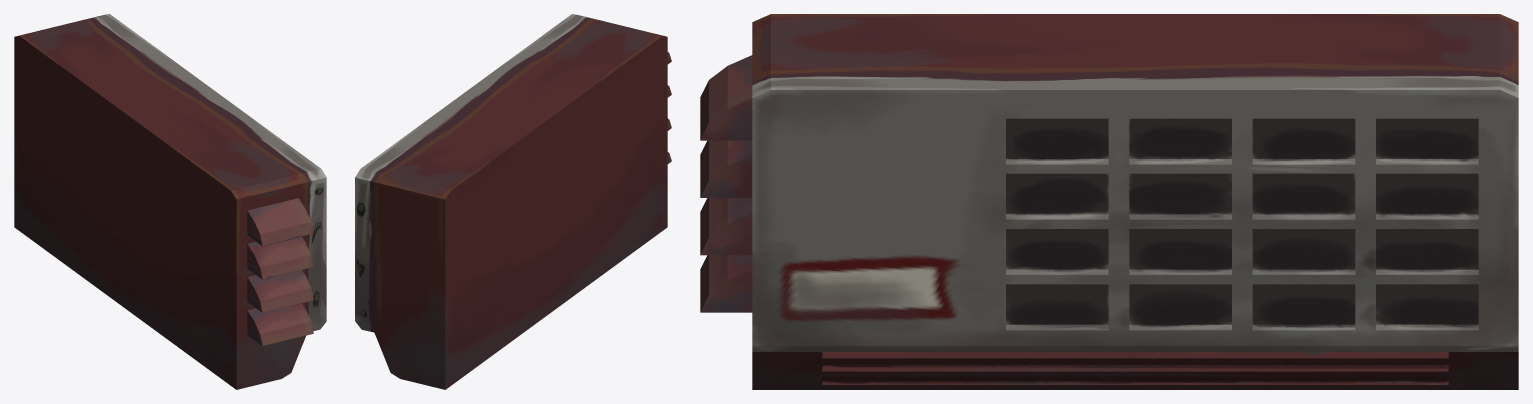
File: ventilation unit.fbx
3 renders of one model, left to right at view 1: azimuth 30°, elevation 25°; view 2: azimuth 150°, elevation 25°; view 3: azimuth 270°, elevation 25°, orthographic. The views are drawn at different scales.
Parts seen in each view (by area): view 1: ventilation unit; view 2: ventilation unit; view 3: ventilation unit.
Boxes of the visible parts, x1,y1,x2,y2 form: ventilation unit: [14, 14, 326, 389]; ventilation unit: [355, 14, 671, 389]; ventilation unit: [700, 14, 1518, 389].
Bounding box in the file's own units: 190 × 393 × 866.
